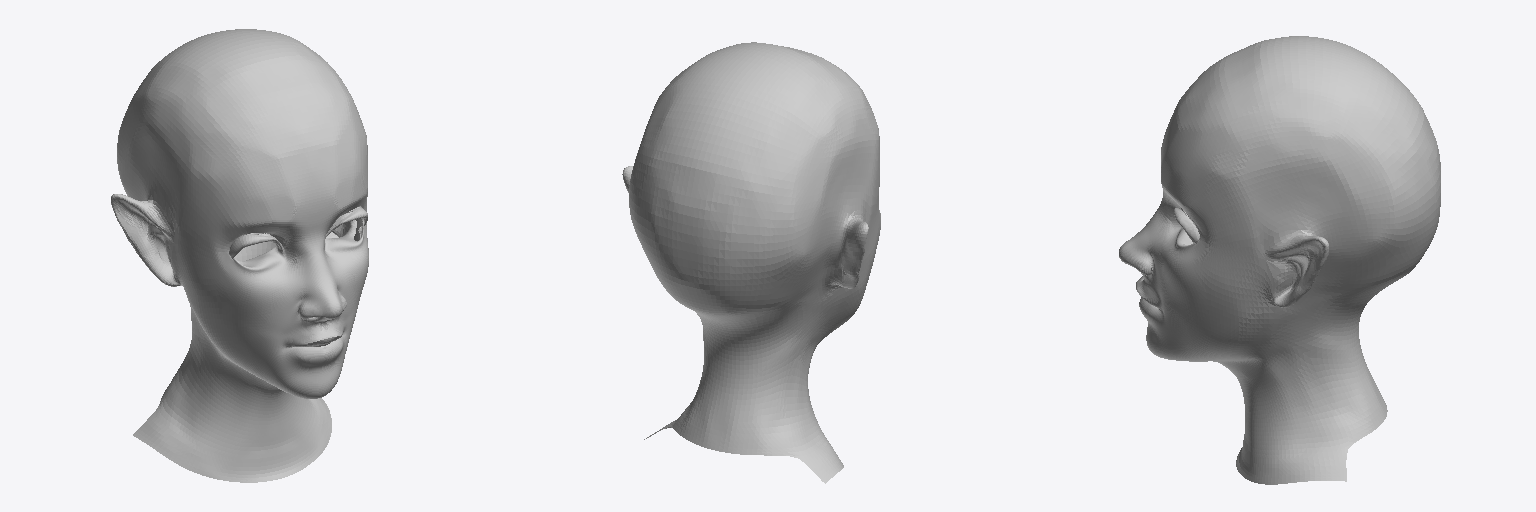
The model's file is Head Update 1.OBJ.
The picture shows the model from 3 angles: view 1: azimuth 30°, elevation 25°; view 2: azimuth 150°, elevation 25°; view 3: azimuth 270°, elevation 25°; orthographic projection.
Parts seen in each view (by area): view 1: Body_Base1; view 2: Body_Base1; view 3: Body_Base1.
Part boxes in pixels (x1,y1,x2,y2): Body_Base1: (111, 29, 368, 482); Body_Base1: (622, 42, 880, 483); Body_Base1: (1119, 36, 1440, 484).
Size of the model in its own units: 1.96 by 3.17 by 2.24.